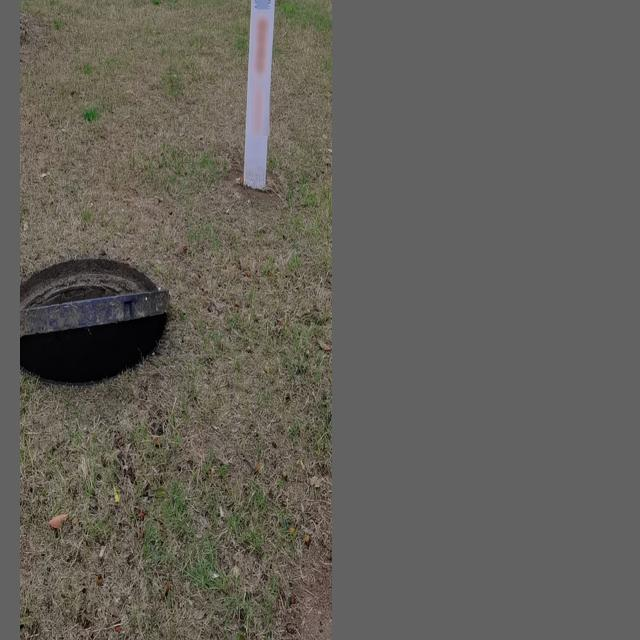uncovered: (19, 257, 167, 385)
